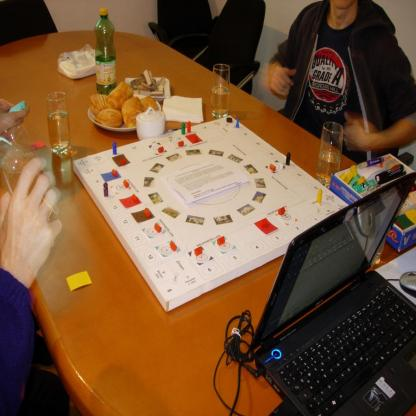board: (248, 171, 416, 416), (95, 8, 117, 94)
